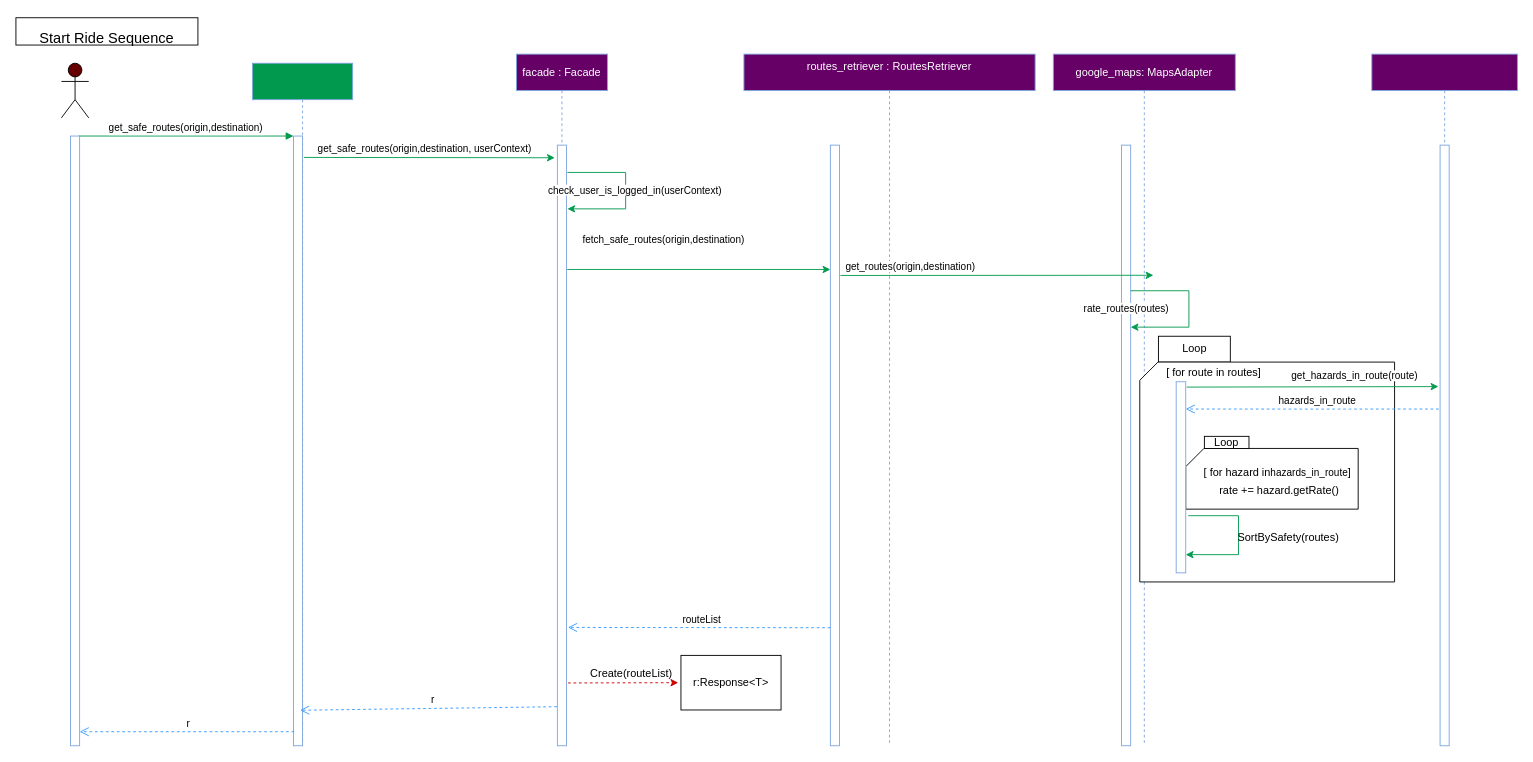
This 1533x762 diagram has some shape labels left out. Each missing label, with the box of its shape:
rideController:RideController: (1371, 53, 1517, 746)
RiderAPI: IUserAPI: (252, 62, 353, 746)
Scooter Driver: (61, 62, 89, 118)
